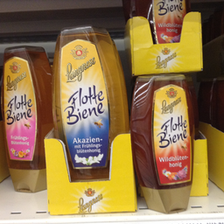honey: (54, 25, 128, 184), (129, 75, 197, 215), (3, 45, 50, 192)
